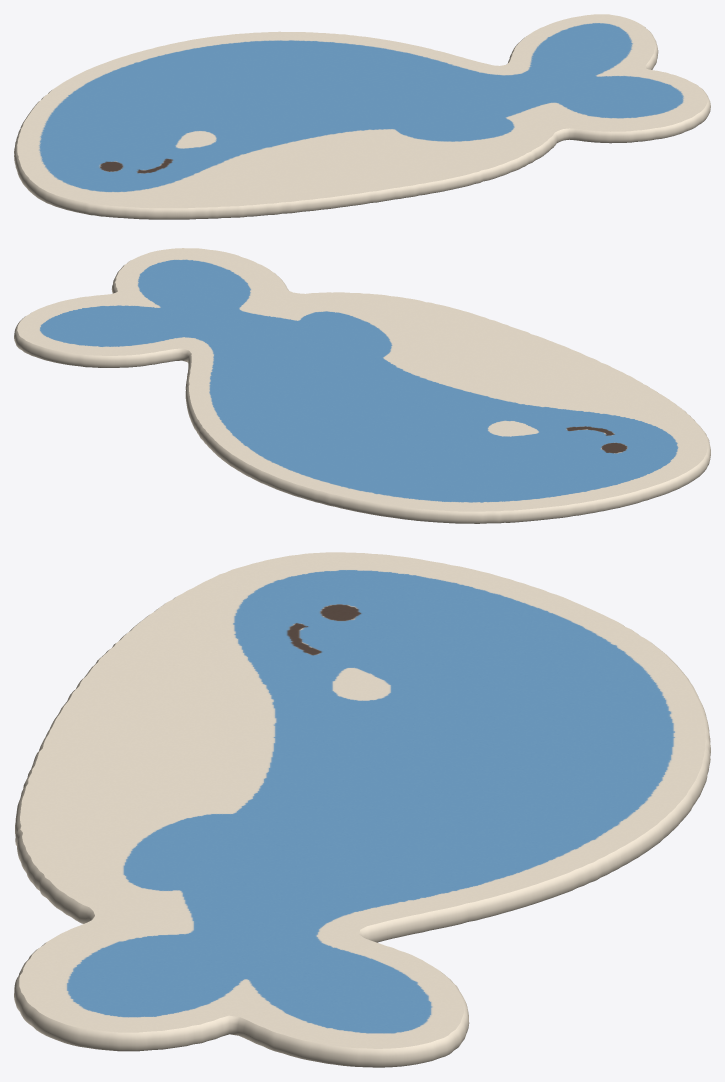
The model's file is rug.glb.
3 renders of one model, top to bottom at view 1: azimuth 30°, elevation 25°; view 2: azimuth 150°, elevation 25°; view 3: azimuth 270°, elevation 25°, orthographic. The views are drawn at different scales.
Parts seen in each view (by area): view 1: 地毯本体; view 2: 地毯本体; view 3: 地毯本体.
Boxes of the visible parts, box(x1,y1,x2,y2) form: 地毯本体: box(14, 14, 710, 219); 地毯本体: box(14, 248, 710, 523); 地毯本体: box(14, 552, 710, 1067).
Size of the model in its own units: 1.6 by 0.026 by 0.9405.
Materials: 1 (1 with a texture image).
